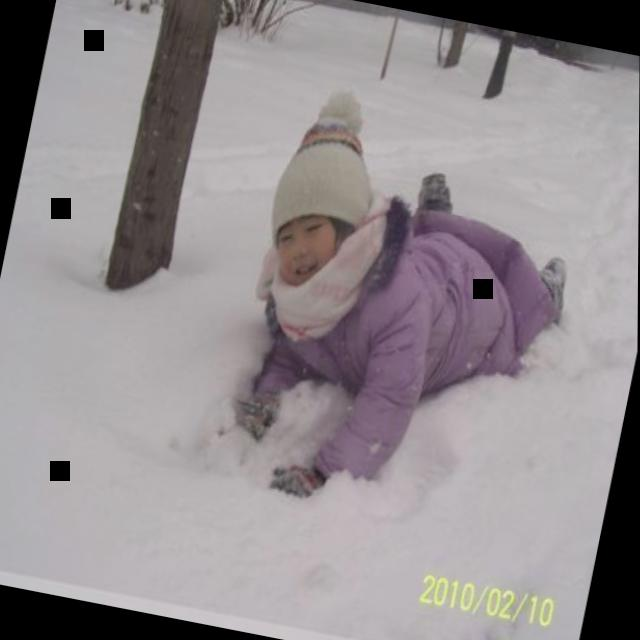Fall-Detected: (191, 42, 614, 566)
